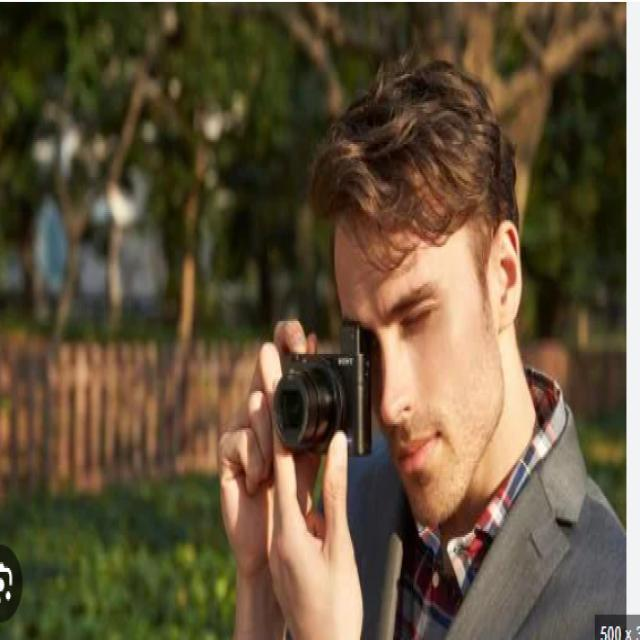face_no_mask: (332, 196, 523, 520)
